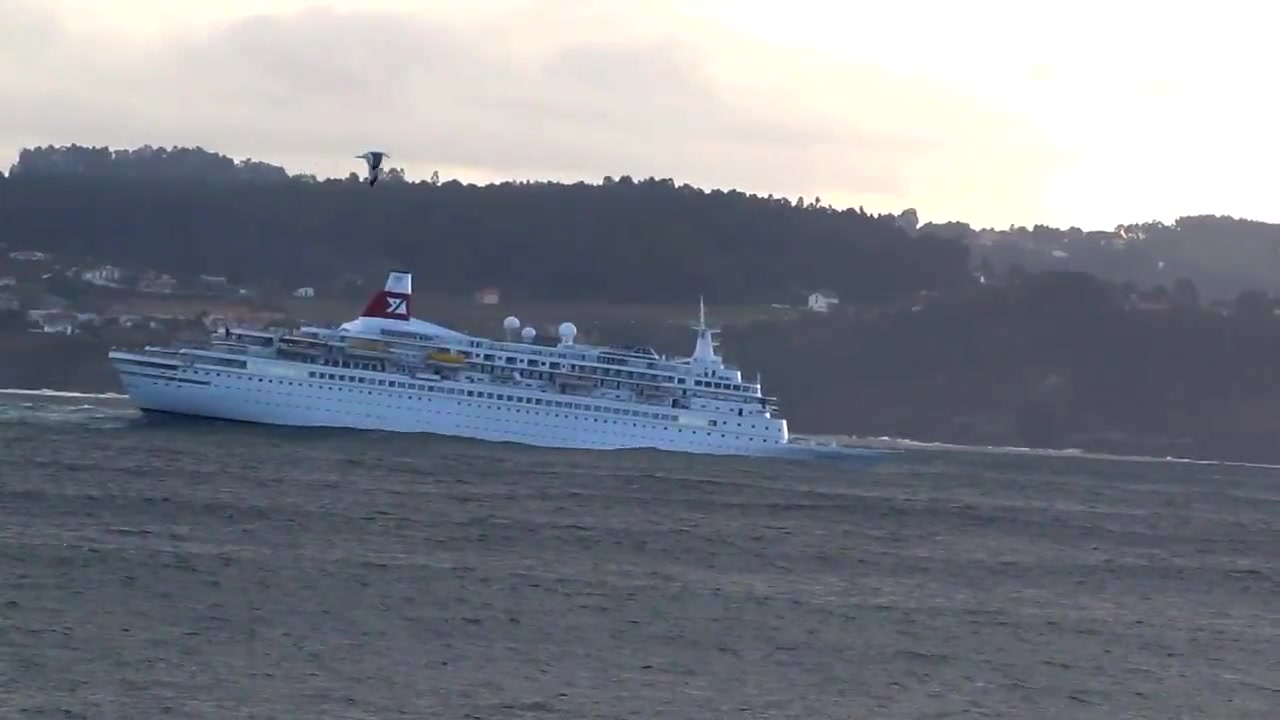boat: (106, 269, 790, 460)
